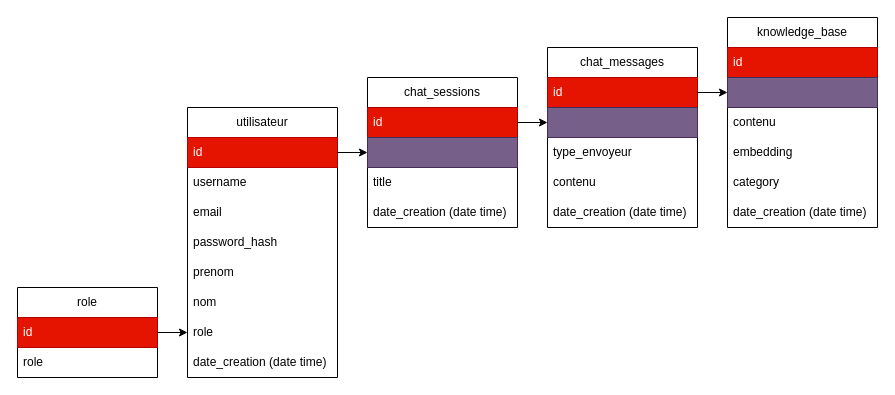
Image size: 895x395. Some labels were removed from this diagram. Each missing label, with the centre of its shape:
"id_utilisateur" goes at (x=442, y=152).
"session_id" goes at (x=622, y=122).
"source_message_id" goes at (x=802, y=92).
